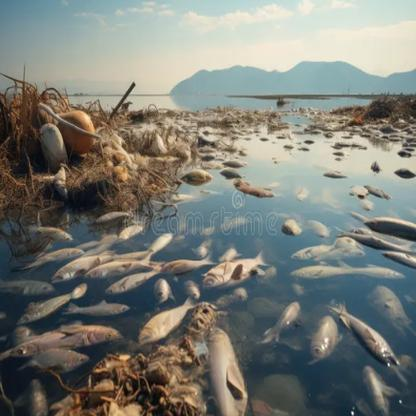deceased fish: (332, 304, 399, 370), (1, 323, 120, 357), (134, 293, 203, 348), (51, 251, 151, 284), (204, 250, 267, 287), (18, 347, 91, 374), (283, 241, 365, 263), (264, 300, 301, 347), (341, 261, 406, 282), (85, 259, 160, 277), (287, 263, 350, 282), (66, 300, 128, 318), (153, 276, 177, 308)
